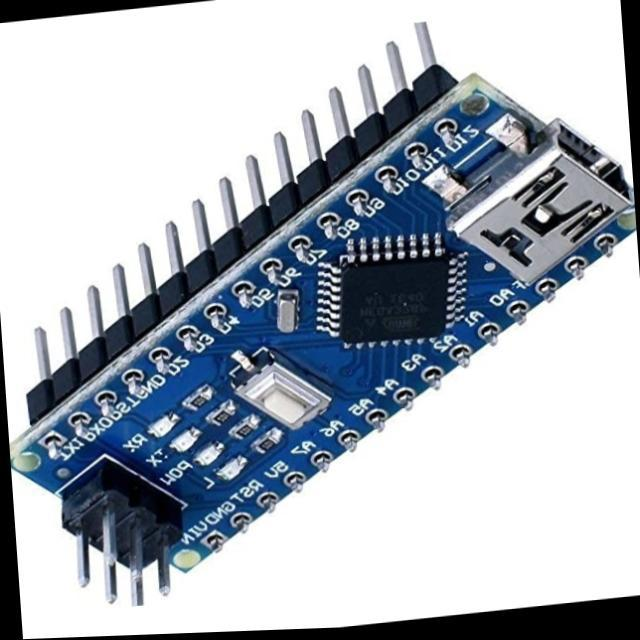Arduino-Nano: (12, 67, 634, 604)
